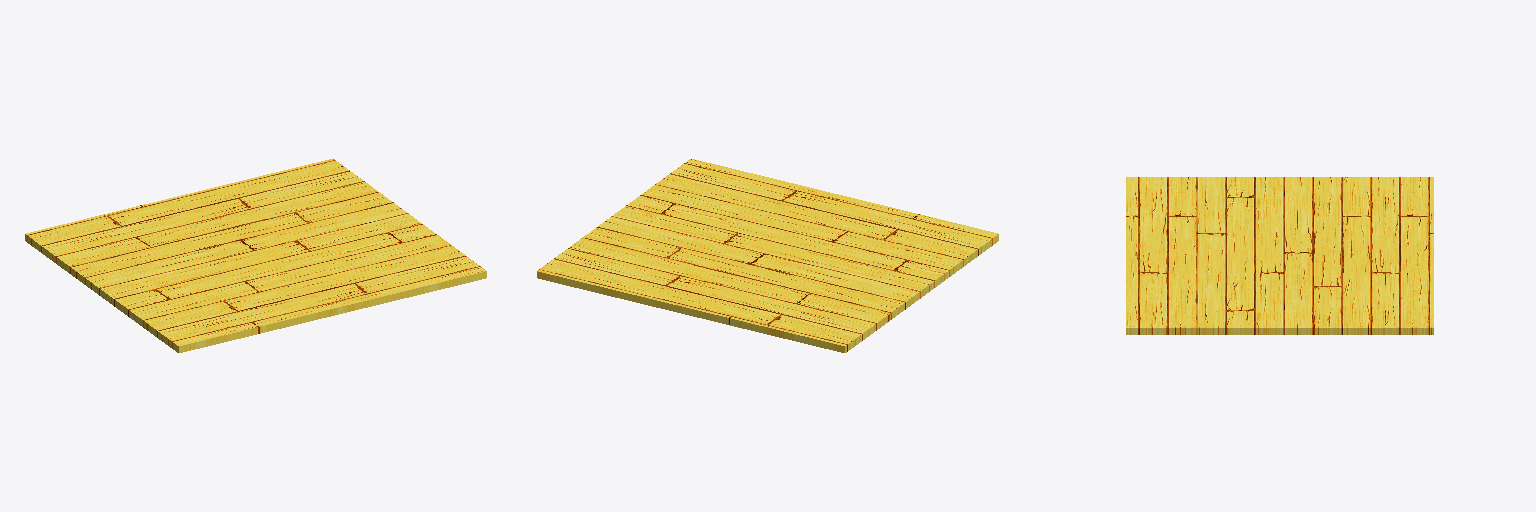
The picture shows the model from 3 angles: view 1: azimuth 30°, elevation 25°; view 2: azimuth 150°, elevation 25°; view 3: azimuth 270°, elevation 25°; orthographic projection.
Parts seen in each view (by area): view 1: floor:pCube1; view 2: floor:pCube1; view 3: floor:pCube1.
Part boxes in pixels (x1,y1,x2,y2): floor:pCube1: (25, 159, 486, 352); floor:pCube1: (537, 159, 998, 352); floor:pCube1: (1126, 177, 1433, 334).
Bounding box in the file's own units: 1902 × 42.09 × 1644.
1 materials, 1 textured.